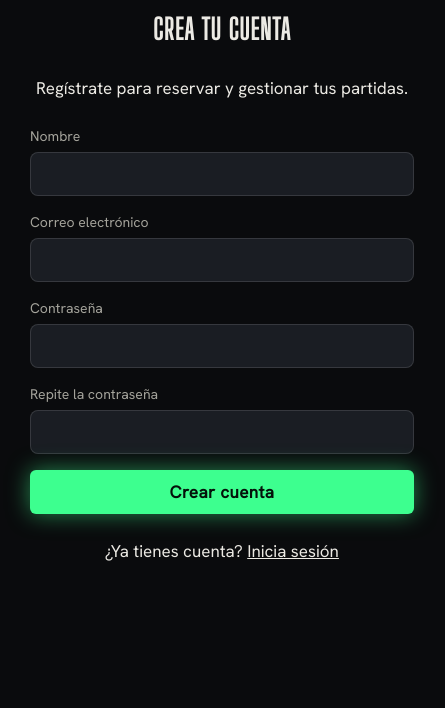
Test: RegisterPage › unexpected error: shows a generic message and stays on /register
Type "Ana" into the field labelled "Nombre" at coordinates (222, 174), box [30,152,414,196]
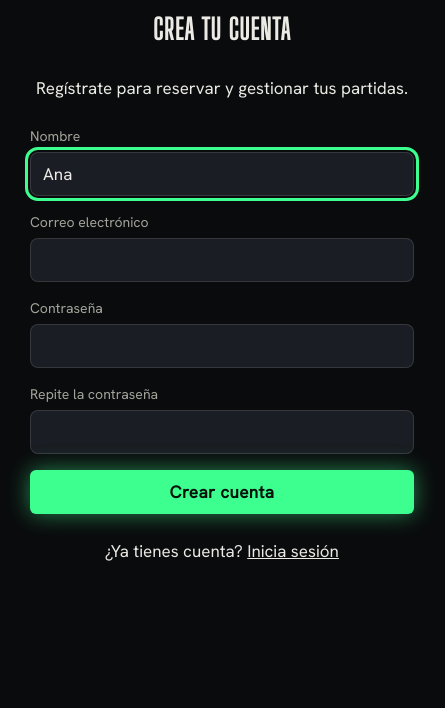
Type "ana@example.com" into the field labelled "Correo electrónico" at coordinates (222, 260), box [30,238,414,282]
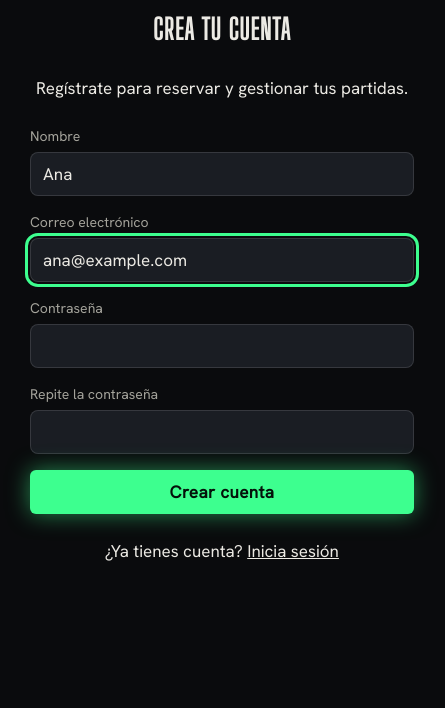
Type "secreto123" into the password field labelled "Contraseña" at coordinates (222, 346), box [30,324,414,368]
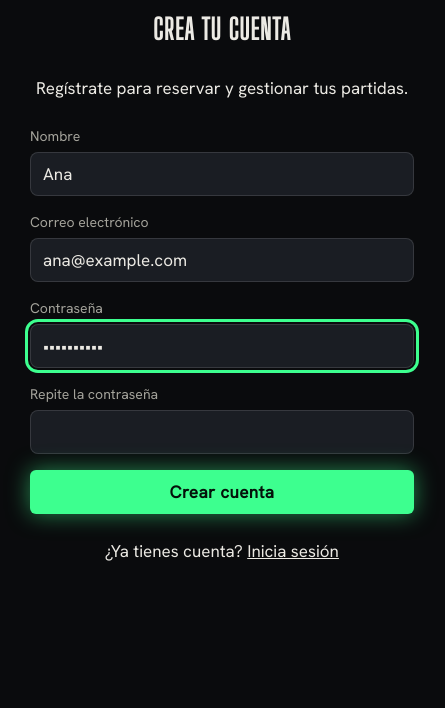
Type "secreto123" into the password field labelled "Repite la contraseña" at coordinates (222, 432), box [30,410,414,454]
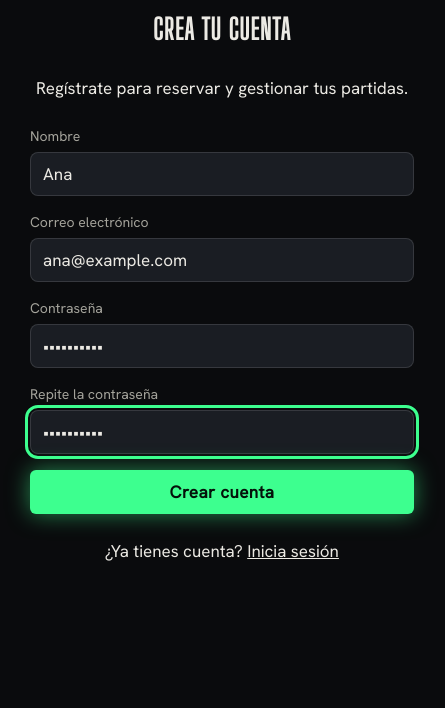
Click the button "Crear cuenta" at coordinates (222, 492), box [30,470,414,514]
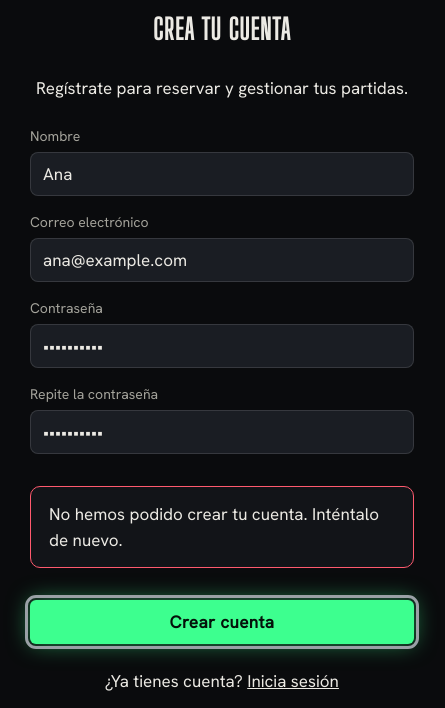
Now the message reads "No hemos podido crear tu cuenta. Inténtalo de nuevo.", box [49,503,379,551]
